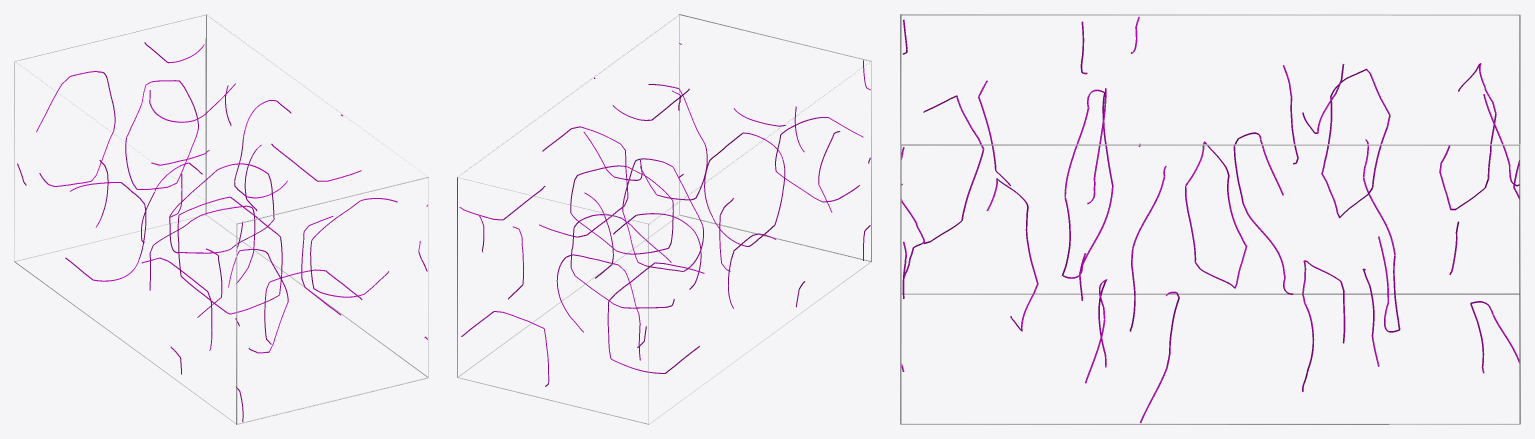
3 views of the same model, side by side, from view 1: azimuth 30°, elevation 25°; view 2: azimuth 150°, elevation 25°; view 3: azimuth 270°, elevation 25° (orthographic). The views are drawn at different scales.
Parts seen in each view (by area): view 1: Shape_IndexedLineSet.001, Shape_IndexedLineSet; view 2: Shape_IndexedLineSet.001, Shape_IndexedLineSet; view 3: Shape_IndexedLineSet.001, Shape_IndexedLineSet.
Boxes of the visible parts, x1,y1,x2,y2 form: Shape_IndexedLineSet.001: (17,42,427,421); Shape_IndexedLineSet: (14,14,428,424); Shape_IndexedLineSet.001: (459,43,870,386); Shape_IndexedLineSet: (457,14,871,424); Shape_IndexedLineSet.001: (901,16,1519,422); Shape_IndexedLineSet: (900,14,1520,424).
Bounding box in the file's own units: 233 × 233 × 467.
